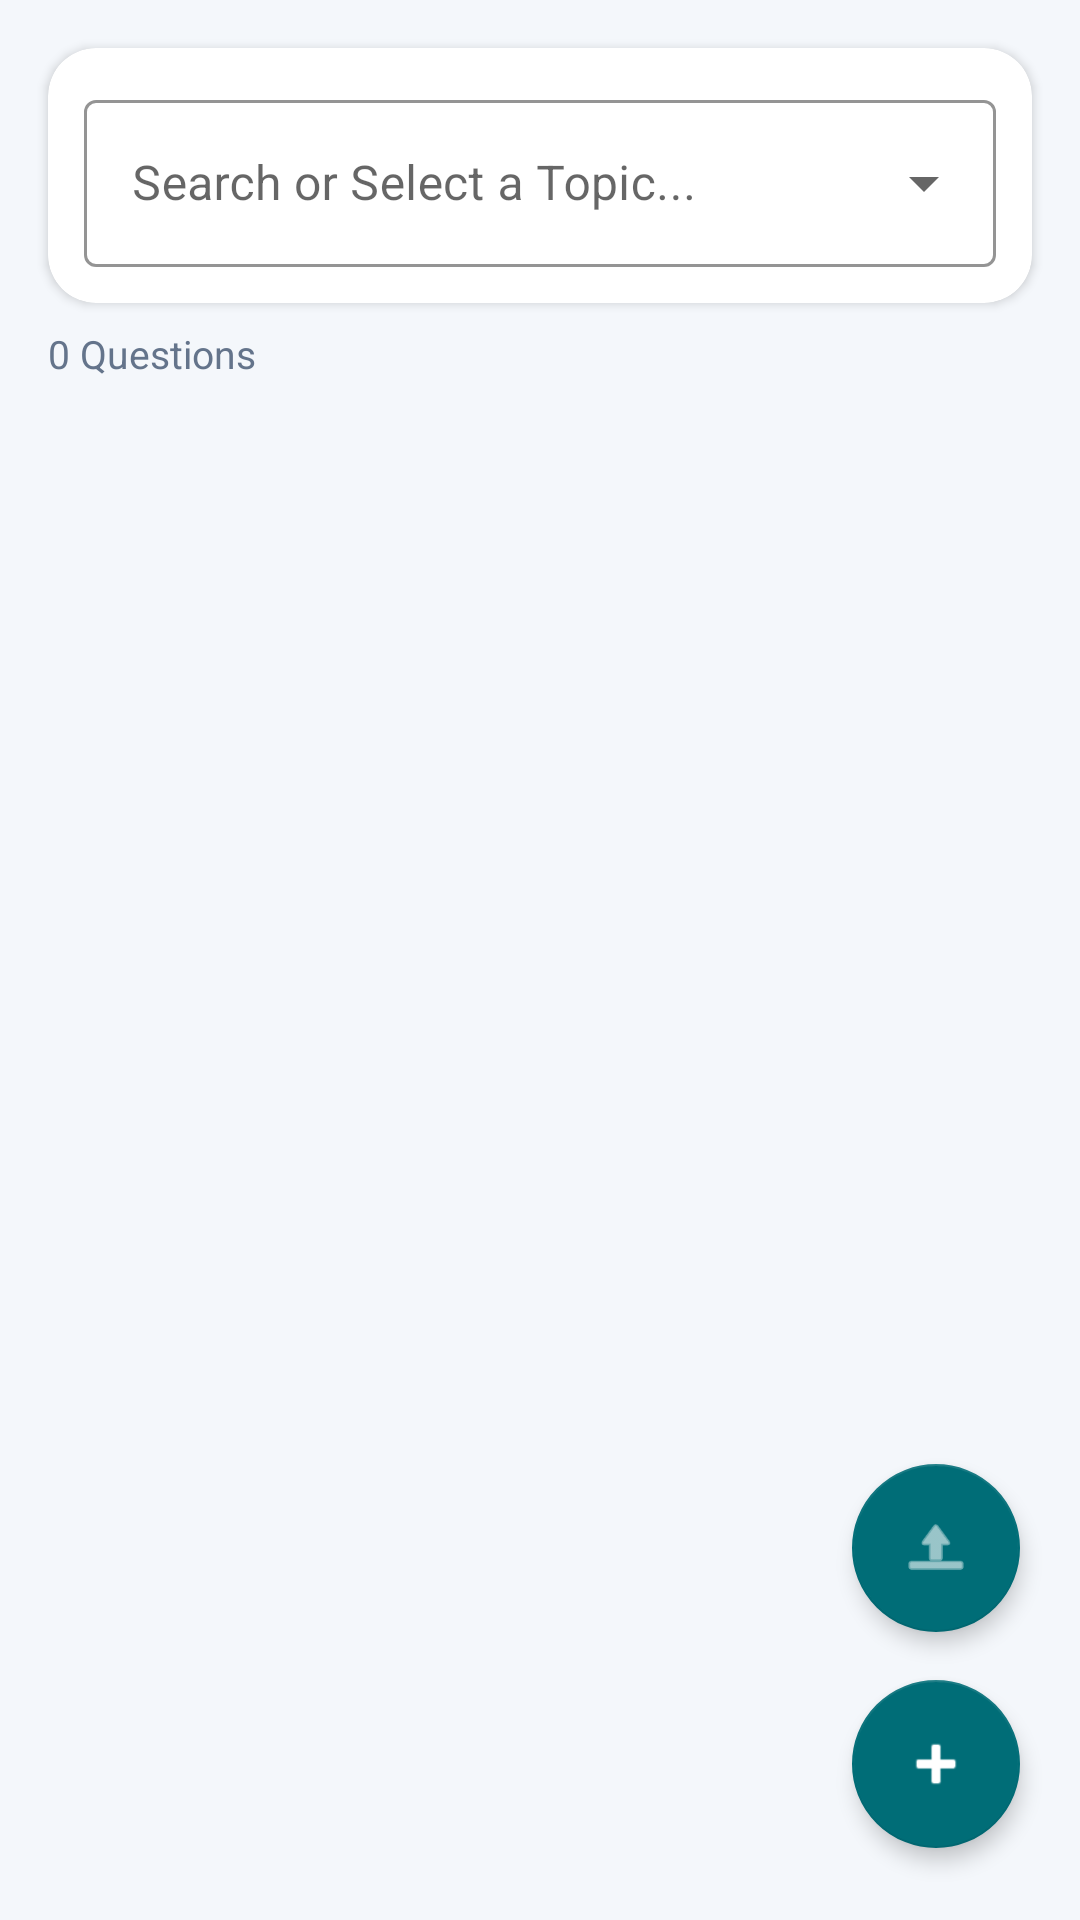

Screen size 1080x1920. Icon name, then its box in pixels as box=[x1, y1, x2, y2]:
add: box=[852, 1680, 1020, 1848]
upload: box=[852, 1464, 1020, 1632]
